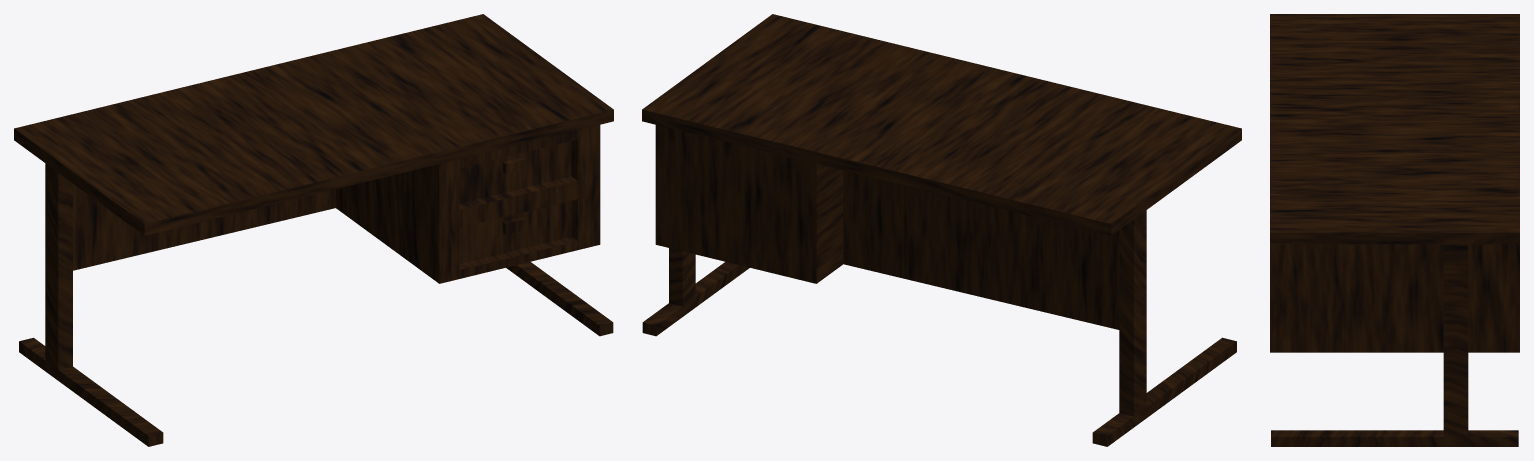
Rendered from Desk.fbx.
3 renders of one model, left to right at view 1: azimuth 30°, elevation 25°; view 2: azimuth 150°, elevation 25°; view 3: azimuth 270°, elevation 25°, orthographic. The views are drawn at different scales.
Parts seen in each view (by area): view 1: Plane; view 2: Plane; view 3: Plane.
Part boxes in pixels (<box>): Plane: <box>14,14,613,446</box>; Plane: <box>642,14,1241,446</box>; Plane: <box>1270,14,1519,446</box>.
Size of the model in its own units: 415 by 190 by 200.
1 material, 1 textured.
